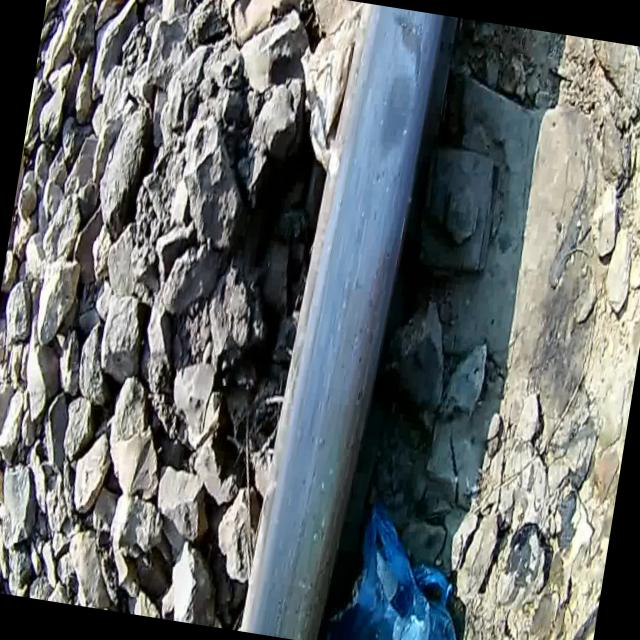Squats: (216, 0, 473, 640)
